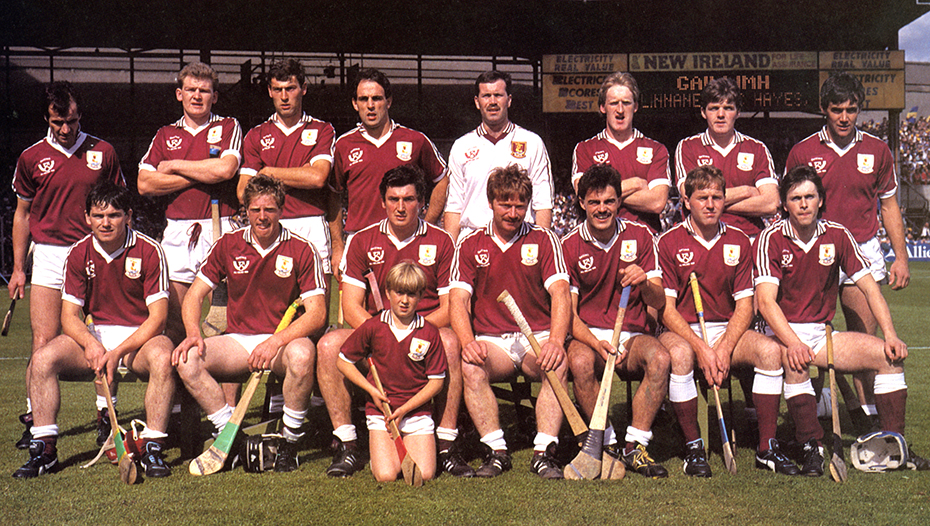player: (66, 176, 181, 447), (202, 160, 319, 417), (763, 160, 876, 407), (798, 70, 923, 262), (672, 175, 769, 410), (346, 163, 467, 345), (557, 171, 659, 380), (449, 174, 568, 349), (152, 57, 236, 259), (343, 55, 447, 212), (577, 61, 677, 215), (679, 72, 783, 208), (460, 65, 554, 210), (254, 56, 334, 225), (27, 81, 104, 247)
